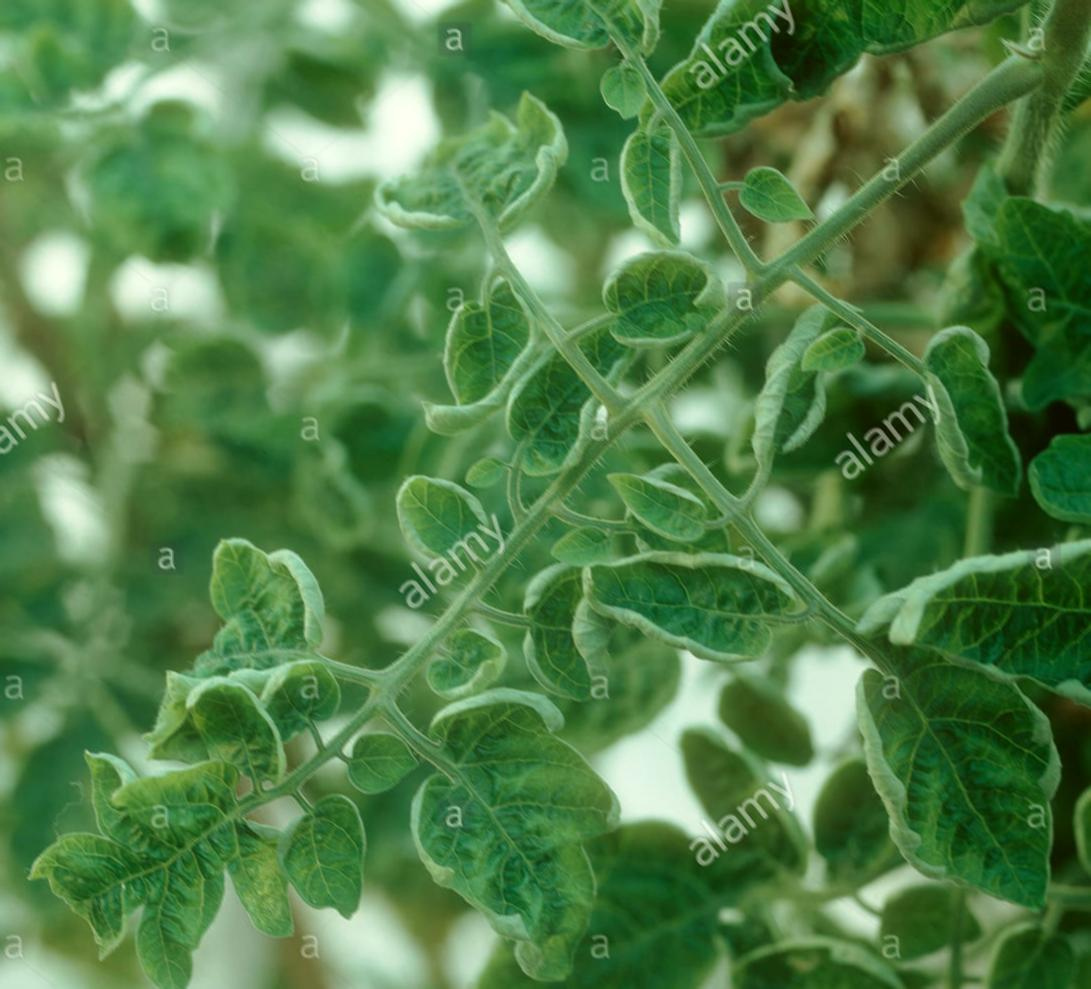Tomato leaf yellow virus: (0, 712, 272, 989), (853, 475, 1091, 783), (397, 684, 635, 989), (848, 634, 1054, 905), (154, 523, 389, 733), (385, 63, 557, 301), (507, 282, 693, 497), (573, 546, 826, 687), (862, 308, 1026, 511), (294, 460, 559, 559)
